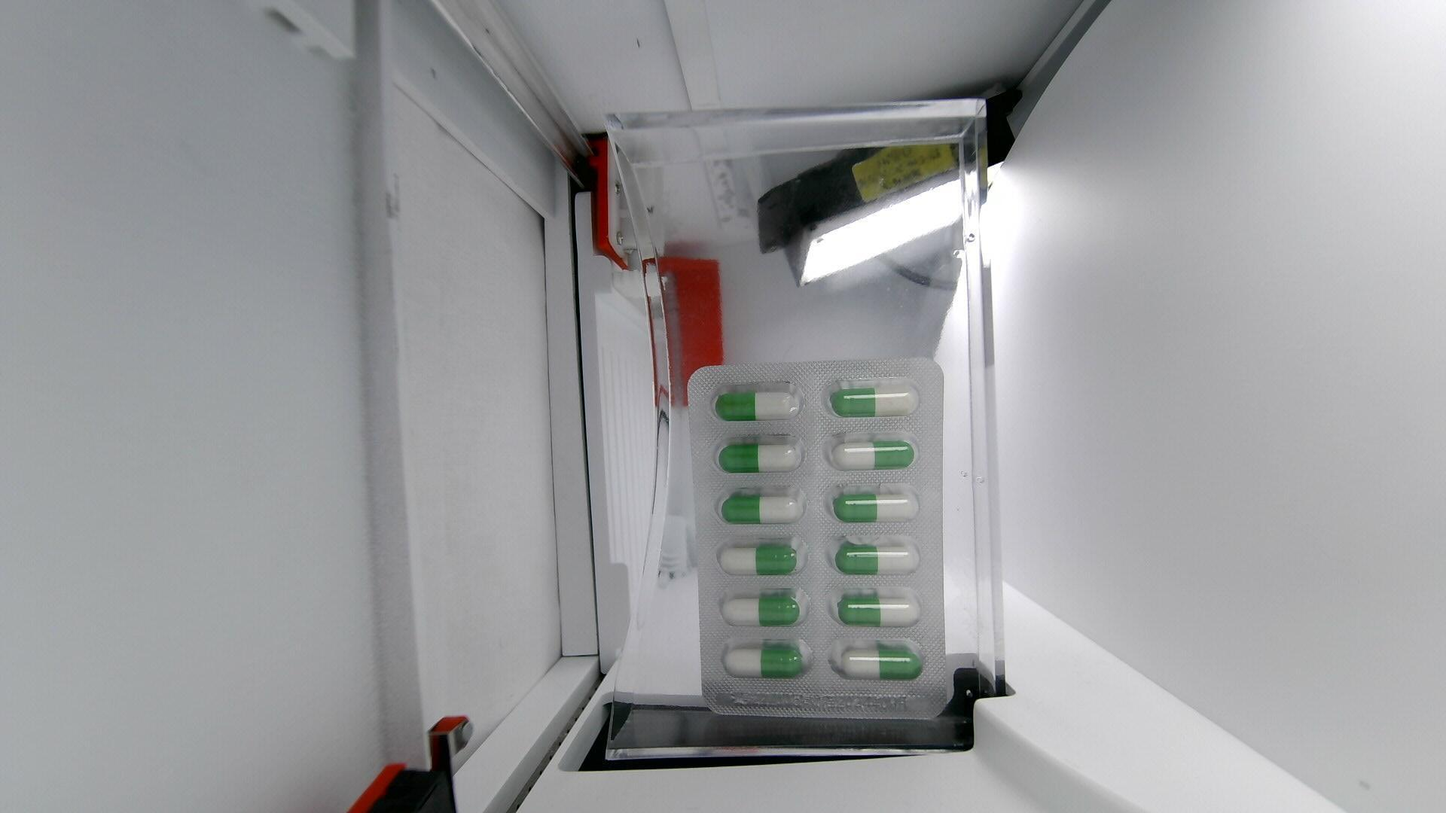Light Front: (689, 359, 950, 717)
Pill Front: (833, 642, 922, 681), (832, 483, 920, 520), (833, 537, 920, 574), (715, 384, 799, 421), (831, 379, 917, 415), (717, 437, 801, 473), (721, 642, 804, 678), (837, 592, 918, 626), (718, 492, 803, 524), (831, 440, 915, 470), (718, 543, 799, 574), (722, 595, 800, 626)
